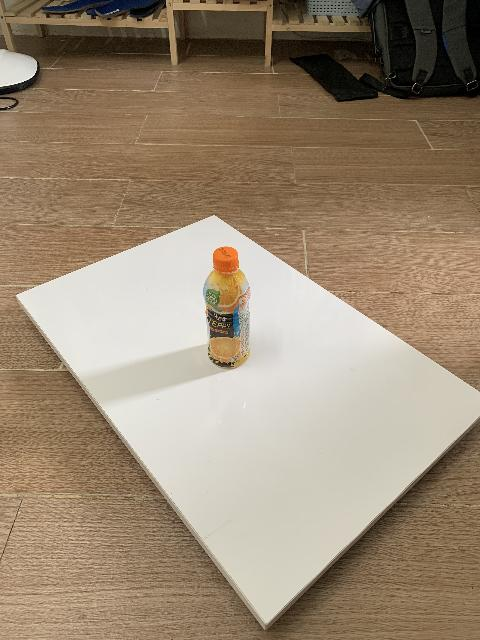teppy_orange_juice: (203, 246, 251, 369)
